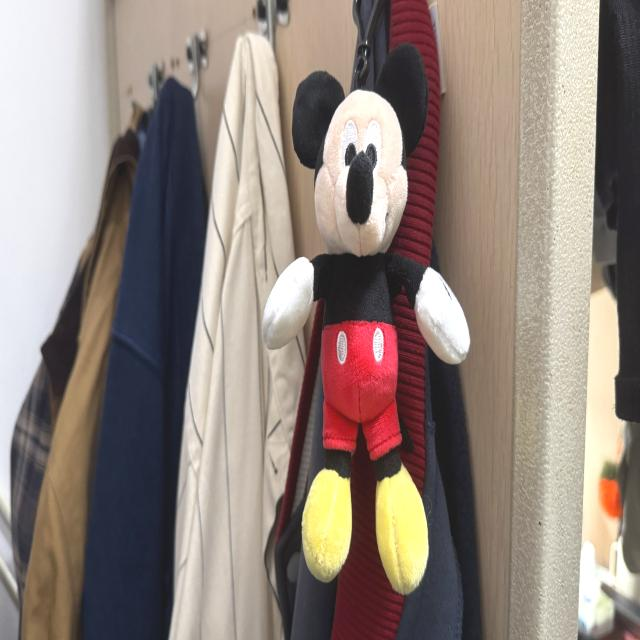mickey: (263, 45, 469, 593)
